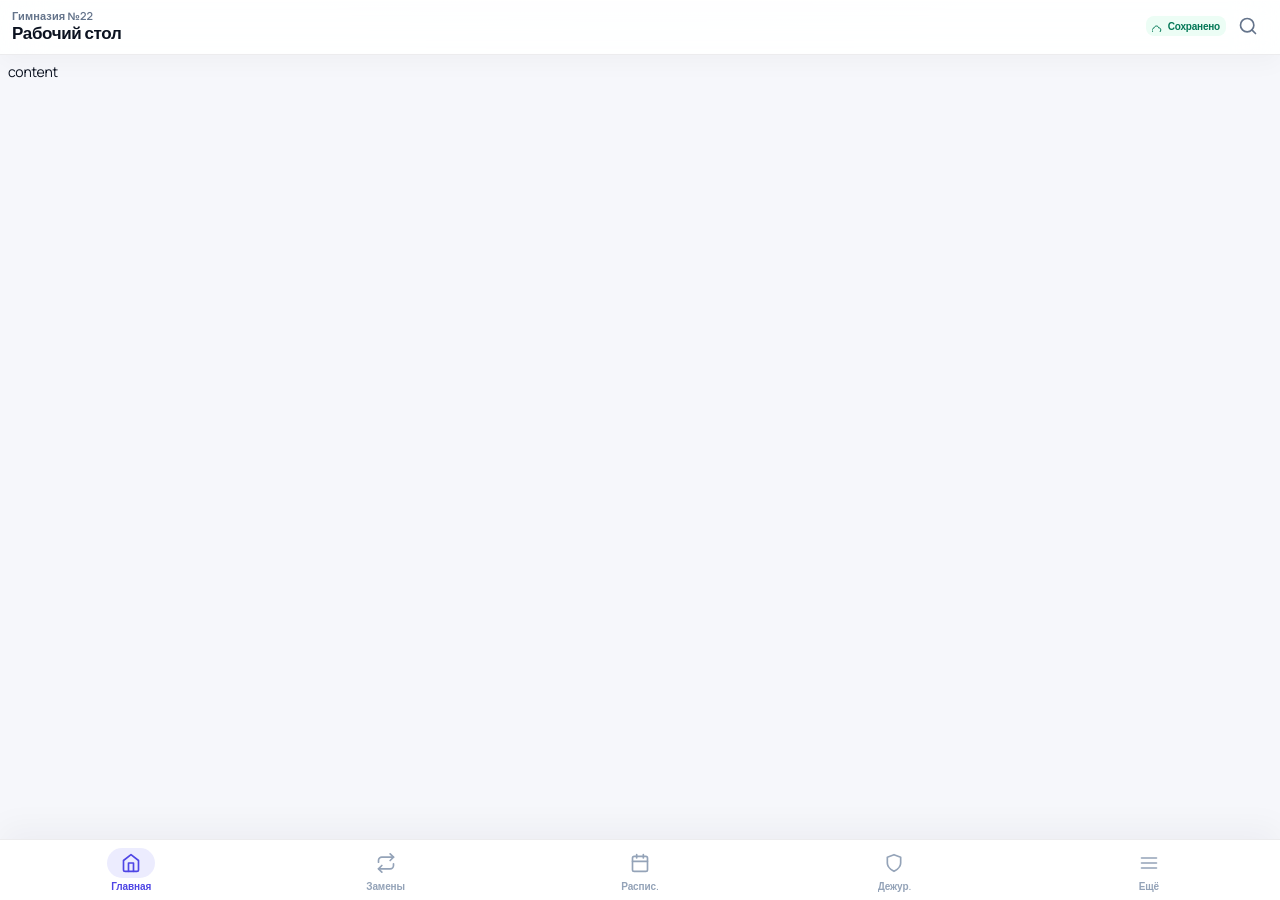
MobileShell › монтирует app-mobile и нижнюю навигацию со всеми разделами в «Ещё»
Expected: the text "content" is shown, 8,62 -> 58,81
Expected: the navigation bar named "Навигация" is shown, 0,839 -> 1279,899
Click the button "Ещё".
click(1149, 870)  # box 1022,844 -> 1276,896
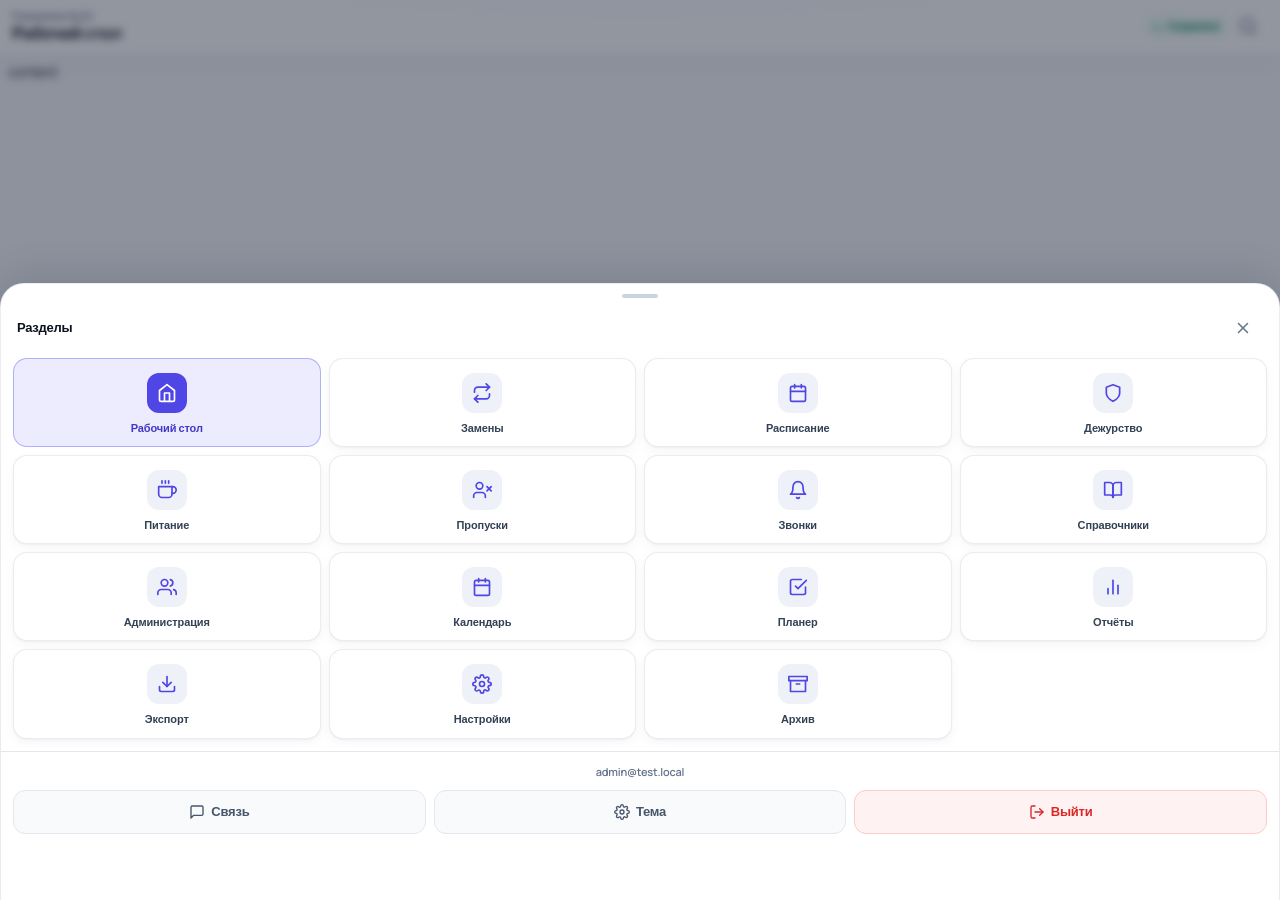
Expected: the dialog named "Все разделы" is shown
Expected: the text "Разделы" is shown, 17,318 -> 72,338
Expected: the text "Настройки" is shown, 454,712 -> 511,726
